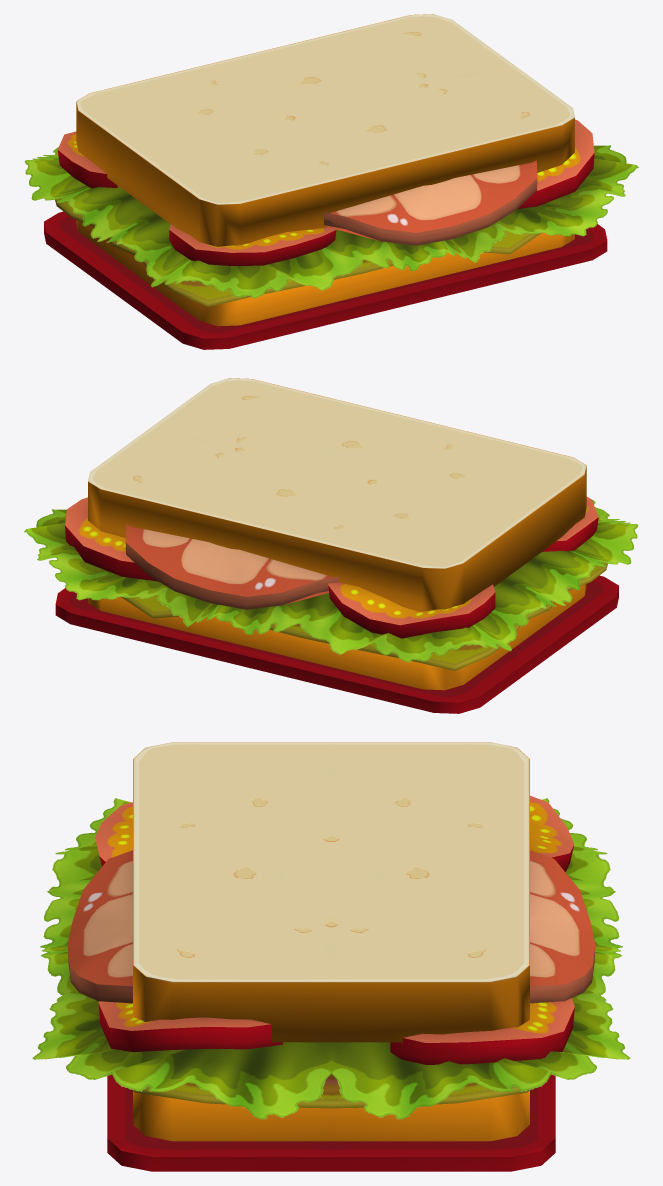
File: sandwich.fbx
The picture shows the model from 3 angles, top to bottom: view 1: azimuth 30°, elevation 25°; view 2: azimuth 150°, elevation 25°; view 3: azimuth 270°, elevation 25°; orthographic projection. The views are drawn at different scales.
Parts seen in each view (by area): view 1: 049; view 2: 049; view 3: 049.
Part boxes in pixels (x1,y1,x2,y2): 049: (24, 14, 638, 349); 049: (24, 378, 638, 713); 049: (32, 742, 630, 1171).
Size of the model in its own units: 25.15 by 6.41 by 21.15.
1 material, 1 textured.
